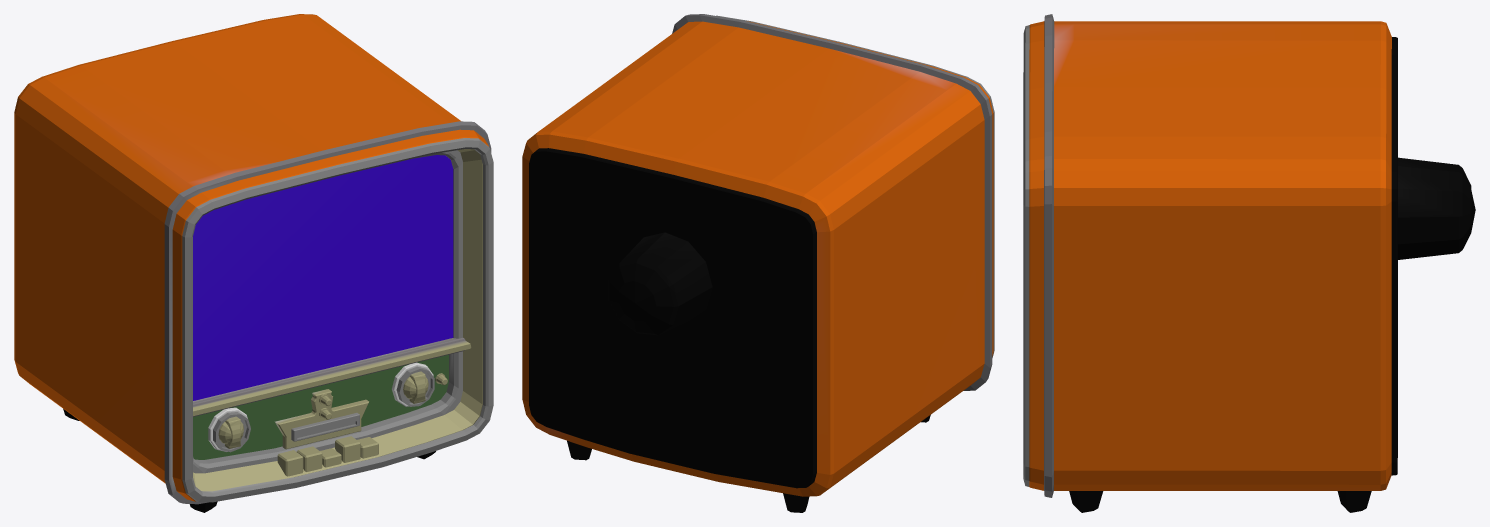
Rendered from b_app_oldtv02.glb.
The picture shows the model from 3 angles, left to right: view 1: azimuth 30°, elevation 25°; view 2: azimuth 150°, elevation 25°; view 3: azimuth 270°, elevation 25°; orthographic projection. The views are drawn at different scales.
Visible parts, largest first — view 1: b_app_oldtv02; view 2: b_app_oldtv02; view 3: b_app_oldtv02.
Boxes of the visible parts, left/top/right/bottom form: b_app_oldtv02: left=14, top=14, right=493, bottom=512; b_app_oldtv02: left=522, top=14, right=994, bottom=512; b_app_oldtv02: left=1023, top=14, right=1475, bottom=512.
Bounding box in the file's own units: 2.06 × 2.1 × 2.33.
